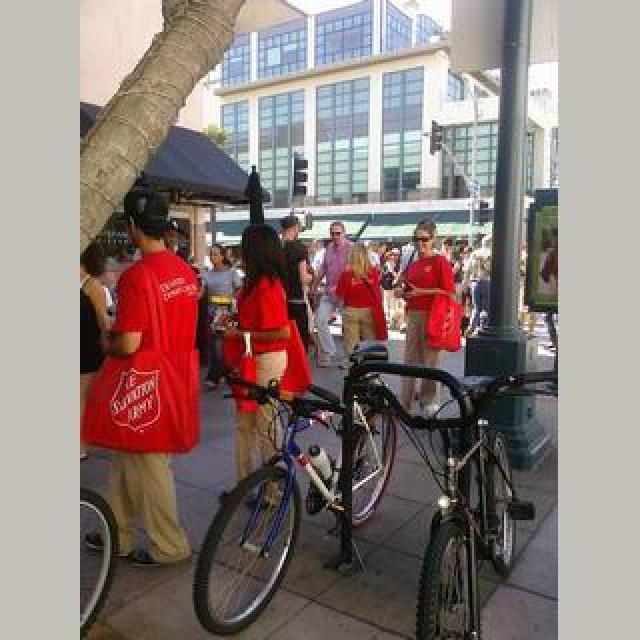MC-Bike: (82, 202, 204, 594), (236, 226, 300, 434), (394, 218, 464, 374), (314, 220, 358, 354), (276, 216, 316, 362)
Person: (194, 358, 416, 634), (344, 350, 530, 640)
